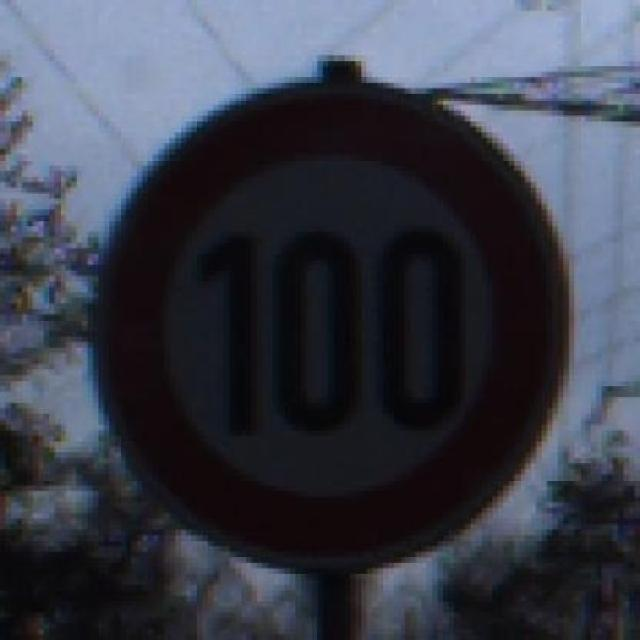forb_speed_over_100: (98, 84, 572, 568)
